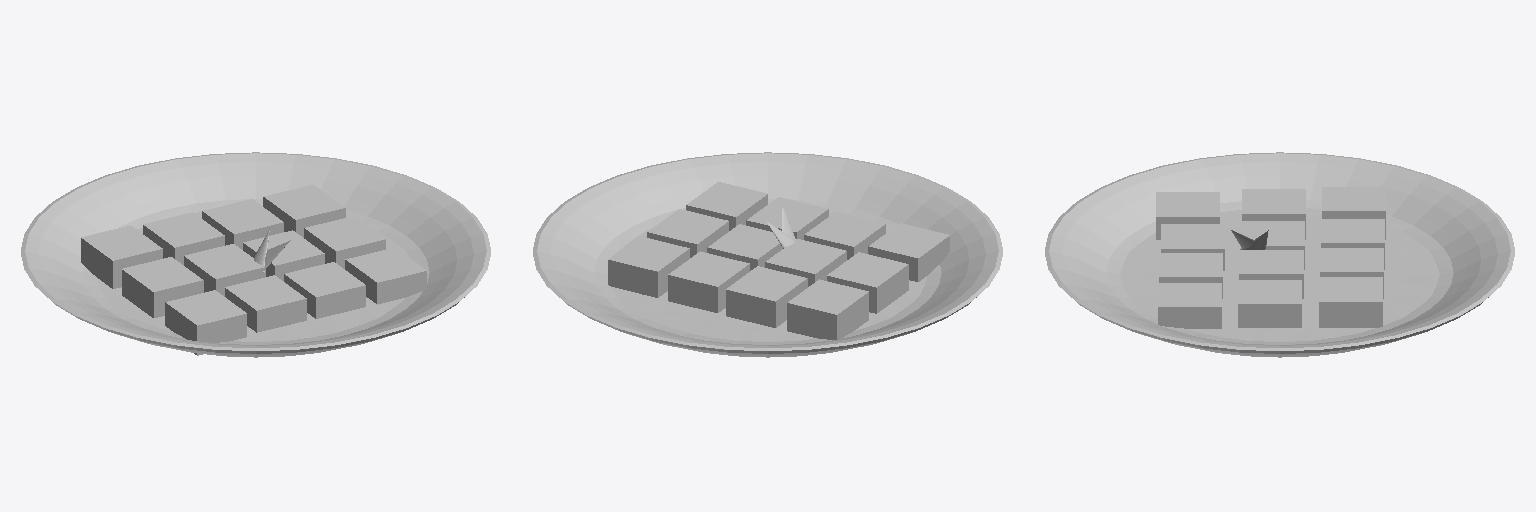
The model's file is kue geplak.obj.
The picture shows the model from 3 angles: view 1: azimuth 30°, elevation 25°; view 2: azimuth 150°, elevation 25°; view 3: azimuth 270°, elevation 25°; orthographic projection.
Visible parts, largest first — view 1: Cylinder, Cube, Cube.001, Cube.002, Cube.003_Cube.004, Cube.009_Cube.010, Cube.006_Cube.007, Cube.010_Cube.011, Cube.011_Cube.012, Cube.004_Cube.005, Cube.005_Cube.006, Cube.008_Cube.009 (+1 smaller); view 2: Cylinder, Cube.002, Cube.005_Cube.006, Cube.011_Cube.012, Cube.008_Cube.009, Cube.001, Cube, Cube.010_Cube.011, Cube.009_Cube.010, Cube.003_Cube.004, Cube.004_Cube.005, Cube.007_Cube.008 (+1 smaller); view 3: Cylinder, Cube.011_Cube.012, Cube.010_Cube.011, Cube.009_Cube.010, Cube, Cube.002, Cube.001, Cube.007_Cube.008, Cube.006_Cube.007, Cube.003_Cube.004, Cube.005_Cube.006, Cube.008_Cube.009 (+1 smaller).
Part boxes in pixels (x1,y1,x2,y2): Cylinder: (21, 152, 490, 357); Cube: (165, 290, 246, 355); Cube.001: (122, 257, 203, 317); Cube.002: (81, 225, 162, 288); Cube.003_Cube.004: (225, 275, 306, 332); Cube.009_Cube.010: (345, 247, 426, 304); Cube.006_Cube.007: (284, 262, 365, 318); Cube.010_Cube.011: (304, 216, 385, 268); Cube.011_Cube.012: (263, 184, 345, 237); Cube.004_Cube.005: (184, 244, 265, 296); Cube.005_Cube.006: (143, 212, 224, 264); Cube.008_Cube.009: (202, 199, 283, 249); Cylinder: (533, 152, 1002, 357); Cube.002: (787, 279, 868, 339); Cube.005_Cube.006: (726, 266, 807, 327); Cube.011_Cube.012: (608, 236, 689, 297); Cube.008_Cube.009: (668, 251, 749, 312); Cube.001: (827, 252, 908, 313); Cube: (868, 223, 949, 281); Cube.010_Cube.011: (647, 209, 728, 257); Cube.009_Cube.010: (686, 182, 767, 230); Cube.003_Cube.004: (804, 211, 885, 259); Cube.004_Cube.005: (765, 239, 846, 286); Cube.007_Cube.008: (707, 224, 782, 270); Cylinder: (1045, 152, 1514, 357); Cube.011_Cube.012: (1319, 277, 1382, 327); Cube.010_Cube.011: (1238, 280, 1301, 327); Cube.009_Cube.010: (1158, 283, 1221, 328); Cube: (1156, 192, 1219, 239); Cube.002: (1322, 187, 1385, 239); Cube.001: (1242, 189, 1305, 239); Cube.007_Cube.008: (1239, 250, 1303, 298); Cube.006_Cube.007: (1159, 253, 1222, 298); Cube.003_Cube.004: (1161, 224, 1224, 270); Cube.005_Cube.006: (1321, 219, 1384, 269); Cube.008_Cube.009: (1320, 248, 1383, 298).
Bounding box in the file's own units: 2.31 × 0.3383 × 2.31.